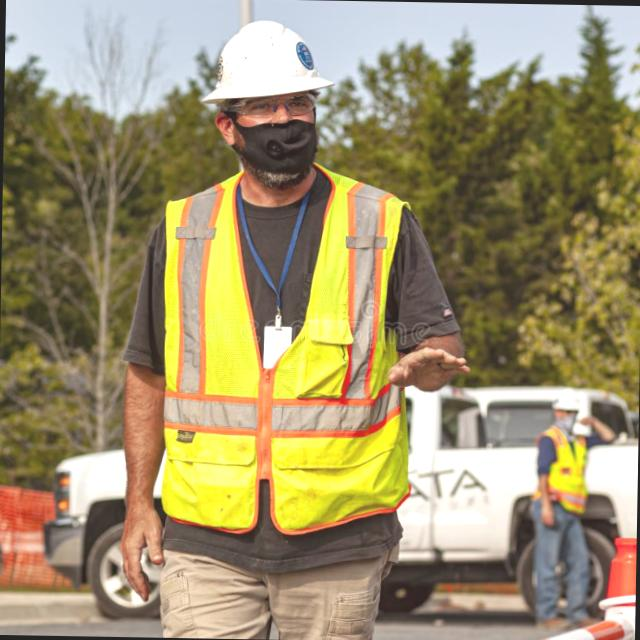goggles: (211, 91, 332, 131)
helmet: (205, 12, 332, 117), (549, 384, 590, 416)
vest: (128, 163, 420, 544), (542, 426, 592, 514)
